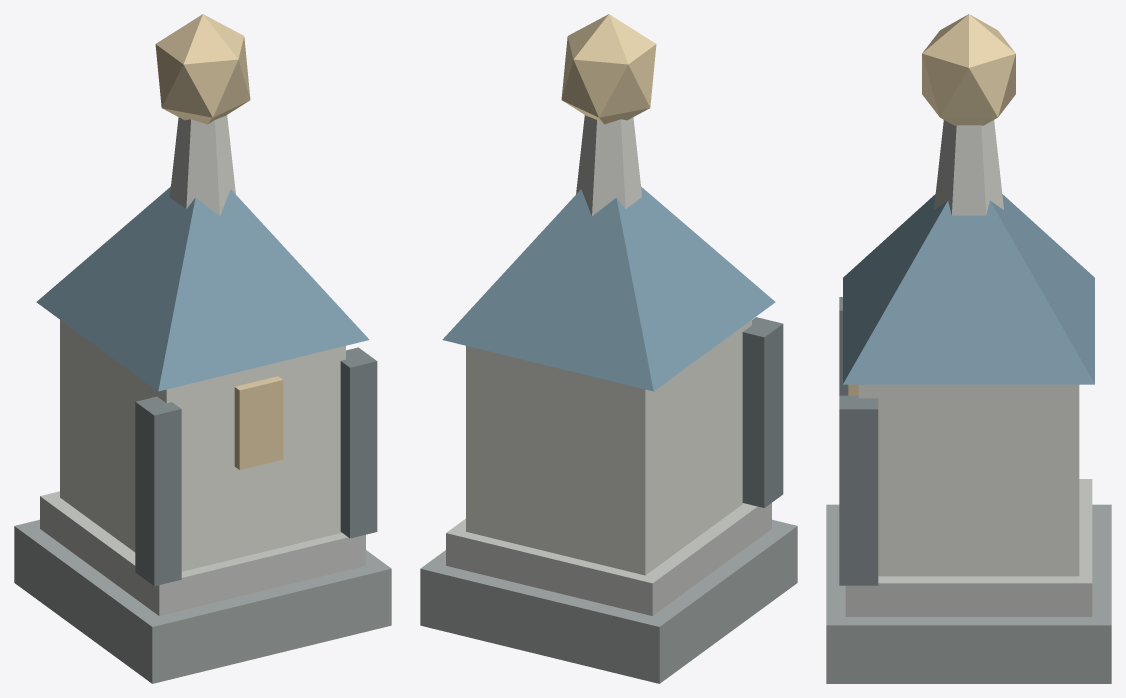
Rendered from human_temple_t2.glb.
3 renders of one model, left to right at view 1: azimuth 30°, elevation 25°; view 2: azimuth 150°, elevation 25°; view 3: azimuth 270°, elevation 25°, orthographic. The views are drawn at different scales.
Parts seen in each view (by area): view 1: human_temple_t2_MAT_light, human_temple_t2_MAT_roof, human_temple_t2_MAT_dark, human_temple_t2_MAT_iron, human_temple_t2_MAT_stone, human_temple_t2_MAT_gold; view 2: human_temple_t2_MAT_light, human_temple_t2_MAT_roof, human_temple_t2_MAT_dark, human_temple_t2_MAT_stone, human_temple_t2_MAT_gold, human_temple_t2_MAT_iron; view 3: human_temple_t2_MAT_light, human_temple_t2_MAT_roof, human_temple_t2_MAT_dark, human_temple_t2_MAT_stone, human_temple_t2_MAT_gold, human_temple_t2_MAT_iron.
Boxes of the visible parts, x1,y1,x2,y2 form: human_temple_t2_MAT_light: [60, 115, 345, 571]; human_temple_t2_MAT_roof: [36, 186, 369, 391]; human_temple_t2_MAT_dark: [14, 519, 391, 683]; human_temple_t2_MAT_iron: [135, 347, 377, 586]; human_temple_t2_MAT_stone: [40, 491, 365, 615]; human_temple_t2_MAT_gold: [155, 14, 283, 469]; human_temple_t2_MAT_light: [466, 115, 751, 575]; human_temple_t2_MAT_roof: [442, 186, 775, 391]; human_temple_t2_MAT_dark: [420, 519, 797, 683]; human_temple_t2_MAT_stone: [446, 503, 771, 615]; human_temple_t2_MAT_gold: [561, 14, 656, 124]; human_temple_t2_MAT_iron: [742, 317, 783, 507]; human_temple_t2_MAT_light: [858, 120, 1079, 576]; human_temple_t2_MAT_roof: [843, 194, 1094, 384]; human_temple_t2_MAT_dark: [826, 504, 1111, 683]; human_temple_t2_MAT_stone: [845, 479, 1092, 616]; human_temple_t2_MAT_gold: [848, 14, 1015, 395]; human_temple_t2_MAT_iron: [839, 297, 878, 585].
Bounding box in the file's own units: 0.88 × 2.07 × 0.88.
